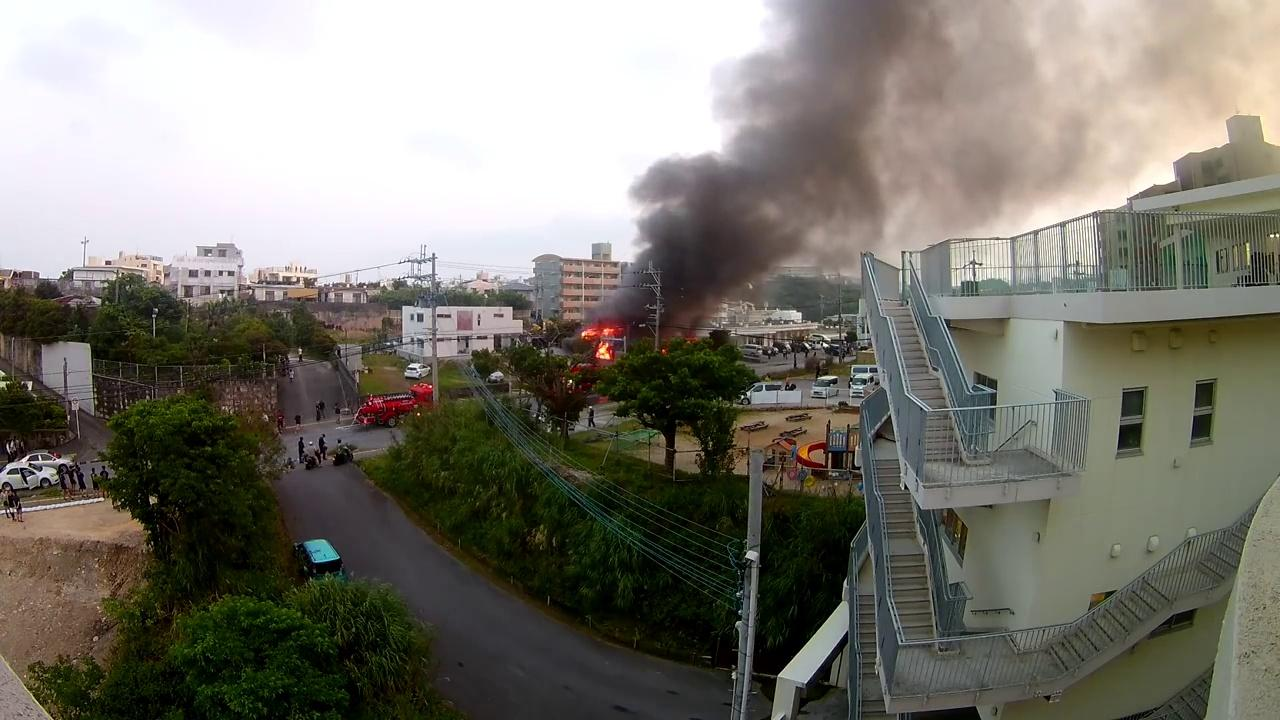fire: (577, 325, 623, 361)
